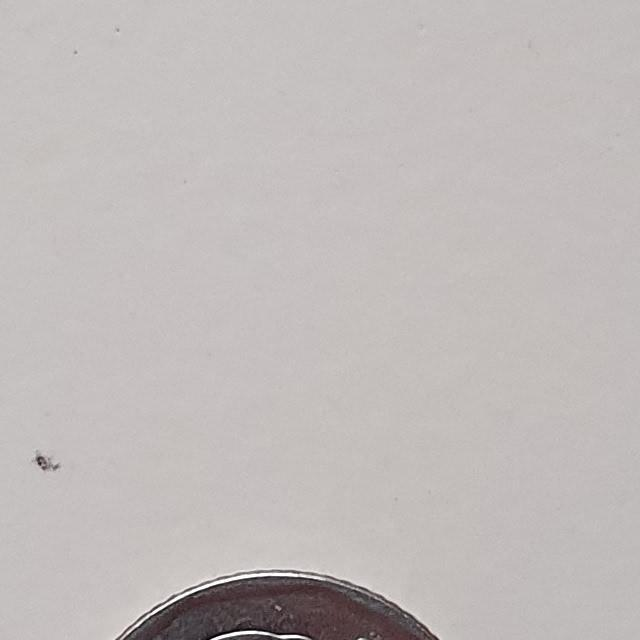5 Bath: (101, 562, 446, 640)
